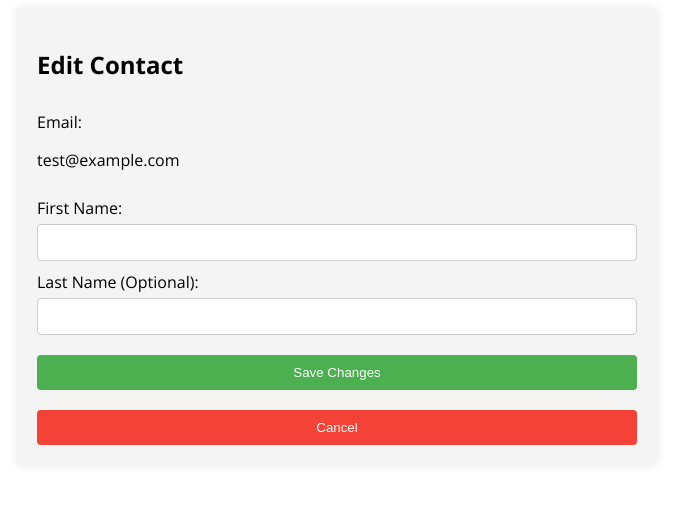
EditContactPage Component › Gives the correct error message when first name is too short
Type "ss" into the field labelled "First Name:".
click(337, 242); type("ss")  # box [37, 224, 637, 261]
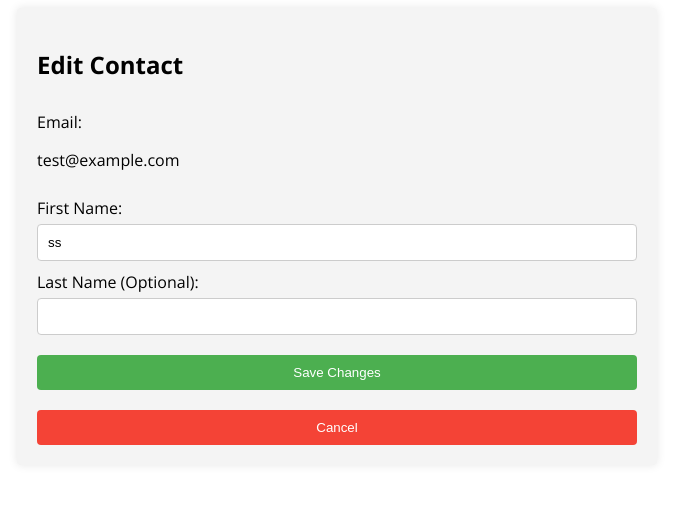
Click the button "Save Changes".
click(337, 372)  # box [37, 355, 637, 390]
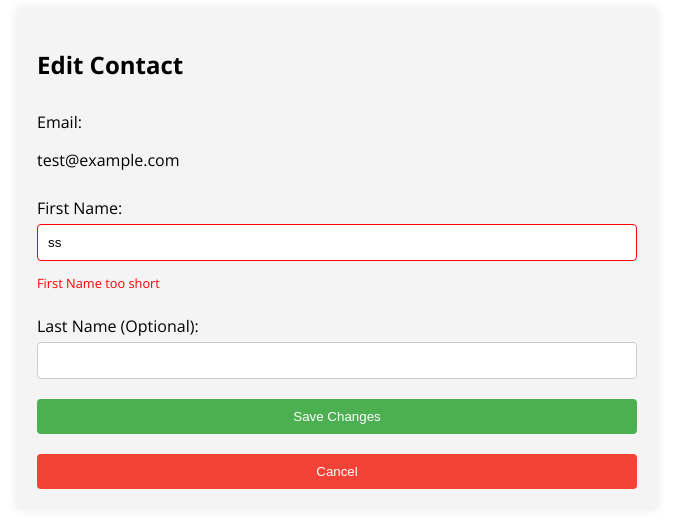
Result: the text "First Name too short" is shown at [37, 274, 160, 292]
